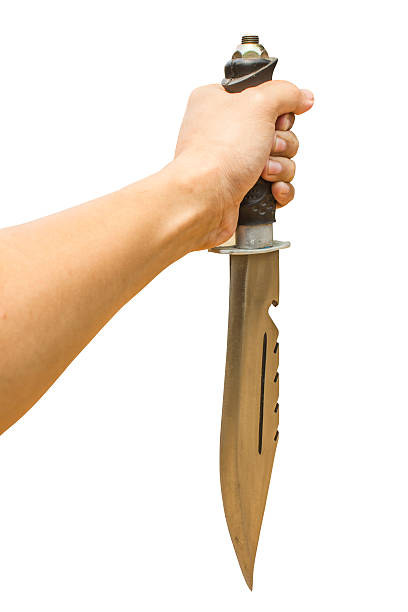knife: (202, 32, 294, 595)
